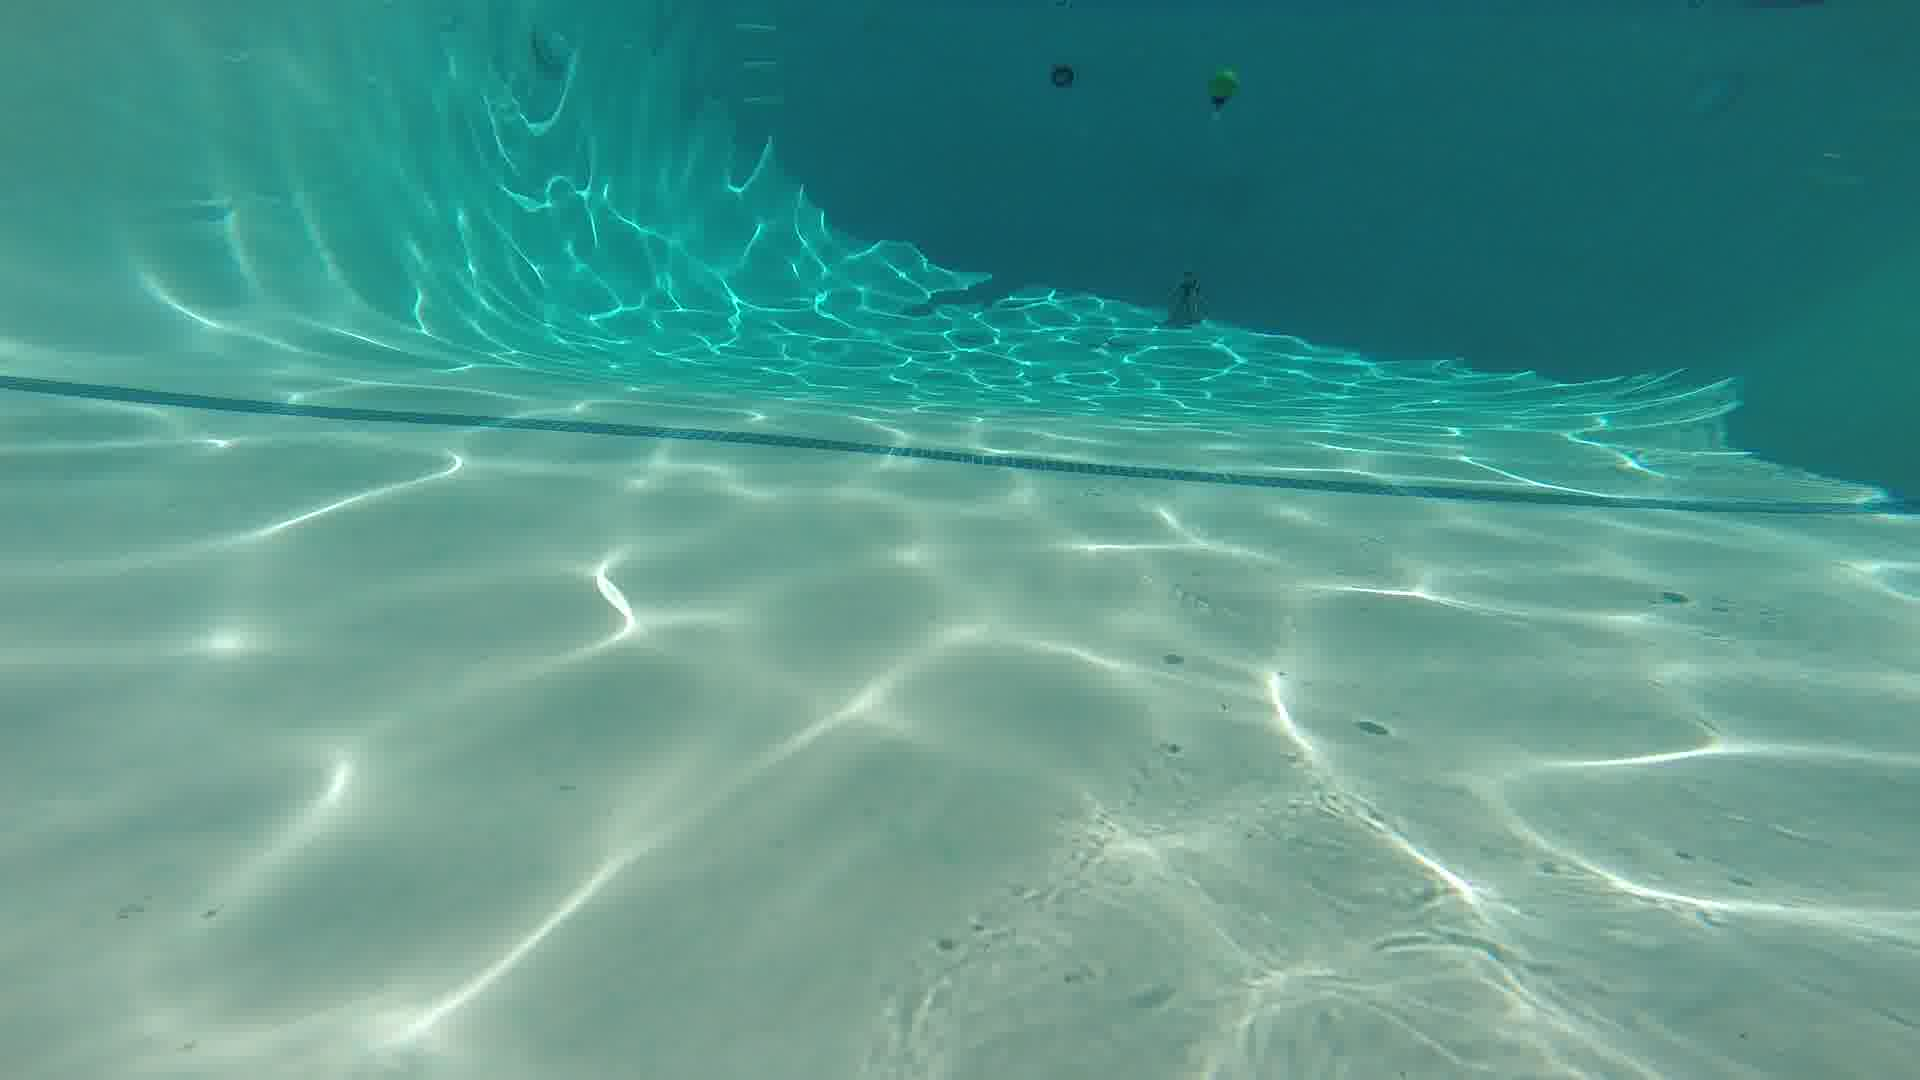yellow_buoy: (1209, 69, 1237, 109)
